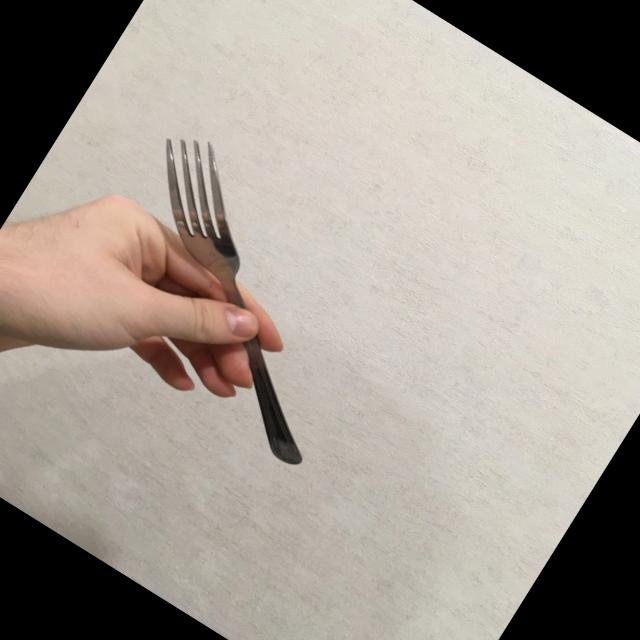fork: (52, 119, 418, 469)
